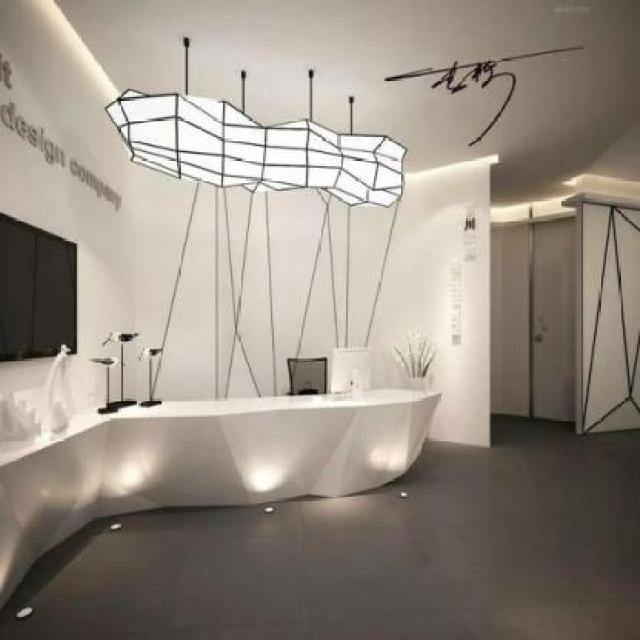frontdesk: (0, 376, 452, 615)
